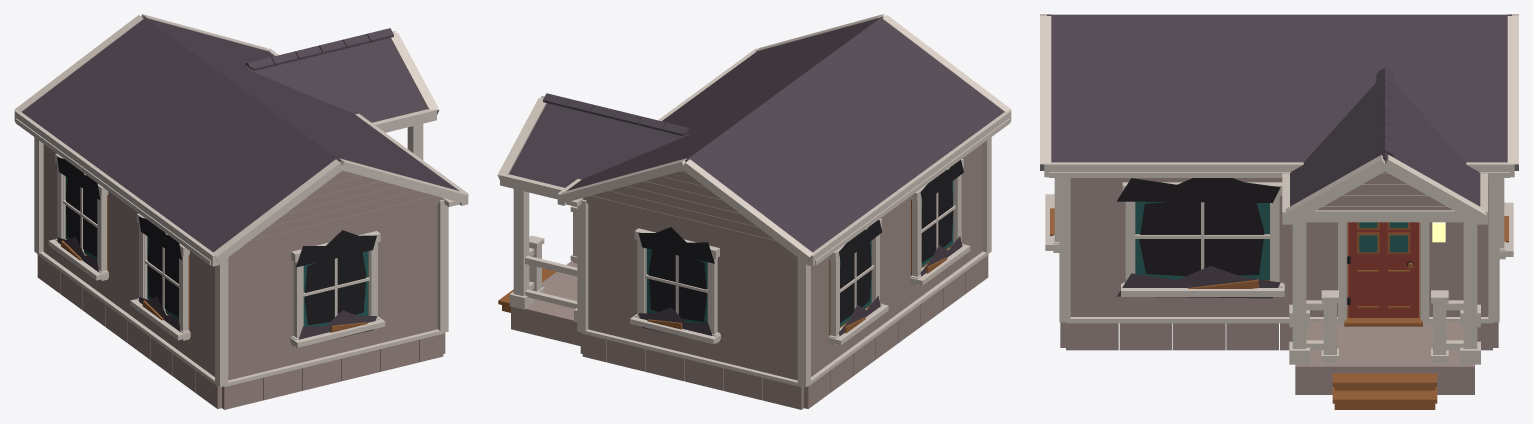
The model's file is bld.house-a.w3.lod2.glb.
The picture shows the model from 3 angles, left to right: view 1: azimuth 30°, elevation 25°; view 2: azimuth 150°, elevation 25°; view 3: azimuth 270°, elevation 25°; orthographic projection. The views are drawn at different scales.
Parts seen in each view (by area): view 1: roof, body, object 6; view 2: roof, body, object 6; view 3: roof, body, object 6, door_front.
Part boxes in pixels (<box>): roof: <box>14,14,468,266</box>; body: <box>34,123,448,409</box>; object 6: <box>48,154,385,347</box>; roof: <box>497,14,1011,266</box>; body: <box>498,137,991,409</box>; object 6: <box>630,159,970,345</box>; roof: <box>1040,14,1518,224</box>; body: <box>1059,178,1499,409</box>; object 6: <box>1045,178,1513,298</box>; door_front: <box>1347,222,1418,317</box>.
Bounding box in the file's own units: 7.14 × 4.45 × 7.17.
